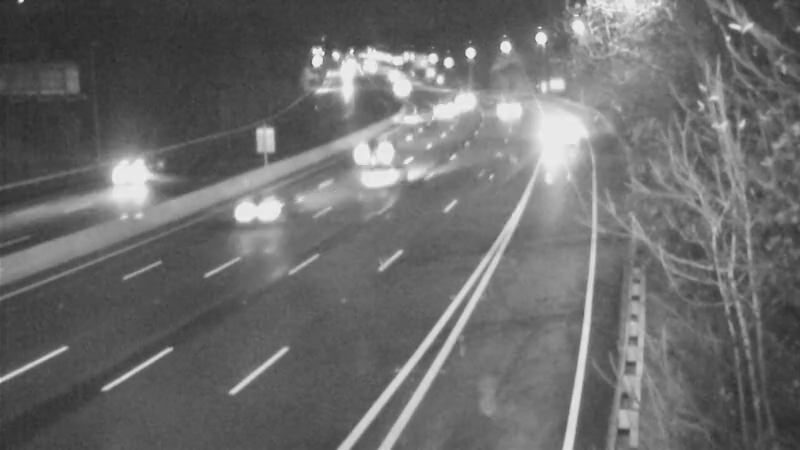vehicle: (332, 111, 412, 191), (344, 134, 424, 214), (220, 173, 300, 253), (98, 129, 178, 209), (377, 60, 427, 110), (440, 73, 490, 123), (483, 82, 533, 132), (420, 88, 470, 138), (385, 95, 435, 145), (529, 107, 579, 157)
